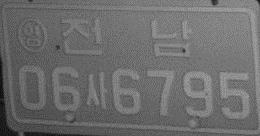0: (17, 63, 47, 110)
5: (218, 70, 250, 120)
6: (111, 66, 142, 116), (51, 64, 81, 112)
7: (146, 67, 175, 117)
9: (182, 70, 214, 118)
사: (84, 71, 109, 110)
영: (16, 16, 48, 54)
전남_D: (60, 17, 193, 58)
